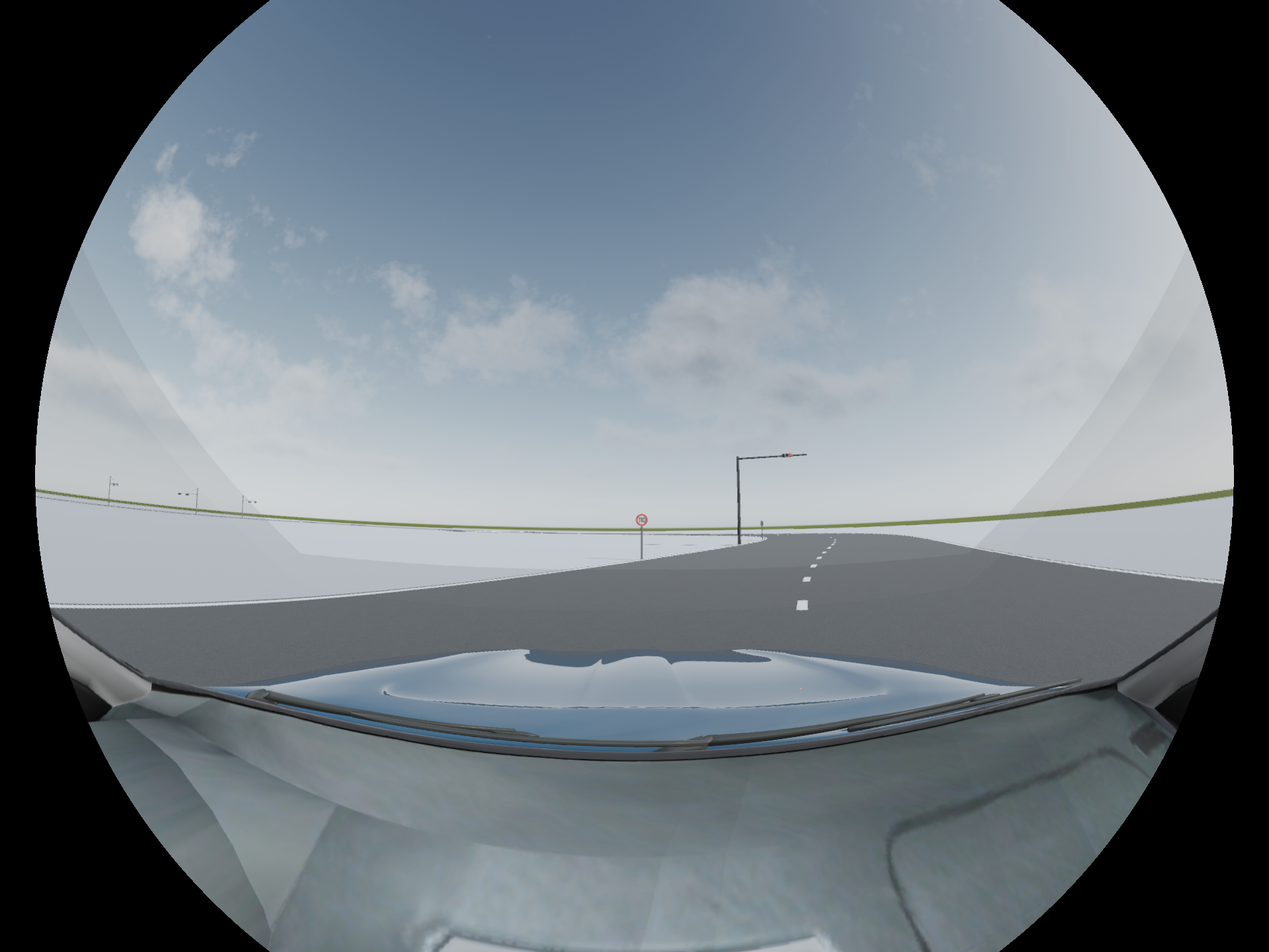Speed Limit 110: (636, 514, 648, 526)
